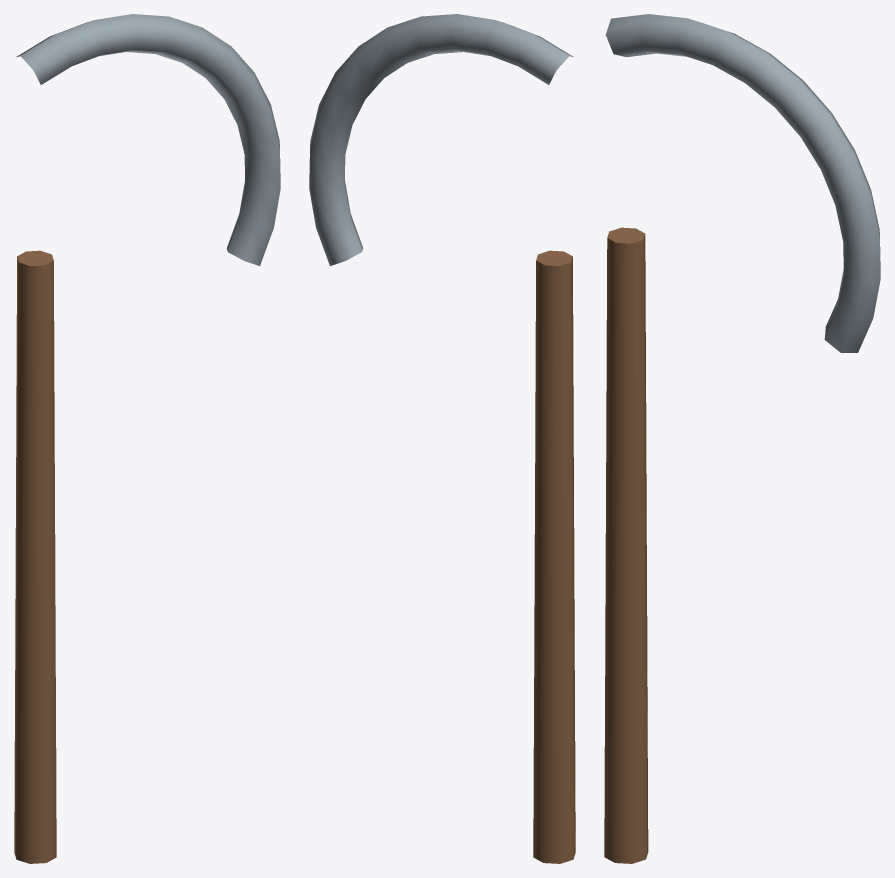
File: sickle.glb
3 renders of one model, left to right at view 1: azimuth 30°, elevation 25°; view 2: azimuth 150°, elevation 25°; view 3: azimuth 330°, elevation 25°, orthographic. The views are drawn at different scales.
Visible parts, largest first — view 1: sickle; view 2: sickle; view 3: sickle.
Part boxes in pixels (x1=…): sickle: x1=14, y1=14, x2=280, y2=863; sickle: x1=309, y1=14, x2=575, y2=863; sickle: x1=604, y1=14, x2=880, y2=863.
Bounding box in the file's own units: 0.417 × 1.24 × 0.06.
